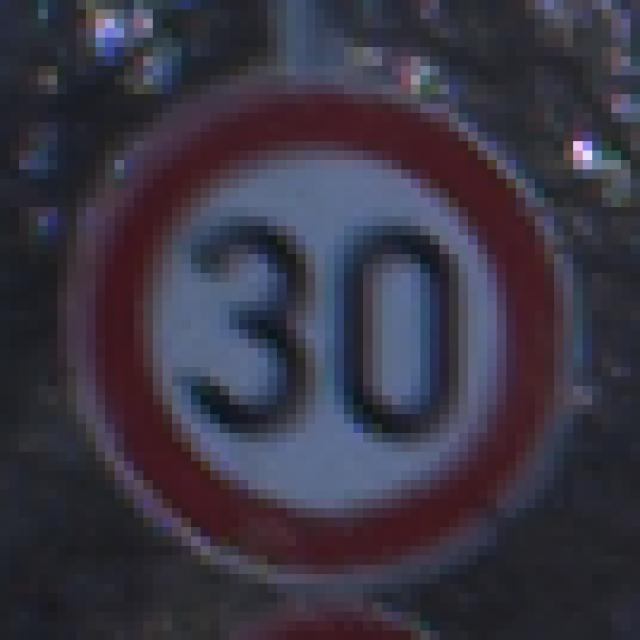Speed Limit -30-: (52, 61, 578, 579)
